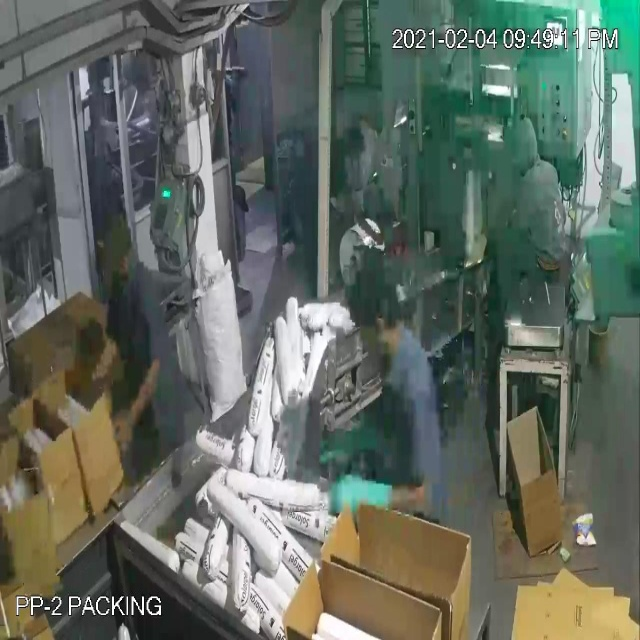Guantes: (299, 417, 392, 484), (318, 454, 386, 527)
Sin_guantes: (102, 342, 179, 453)
